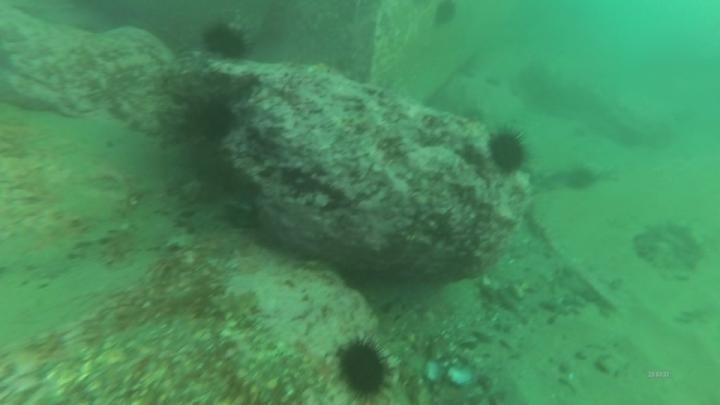echinus: (331, 334, 397, 402), (190, 94, 238, 145), (200, 19, 253, 62), (486, 126, 531, 176), (561, 164, 599, 195), (430, 1, 460, 29)
holothurian: (205, 287, 263, 326)
